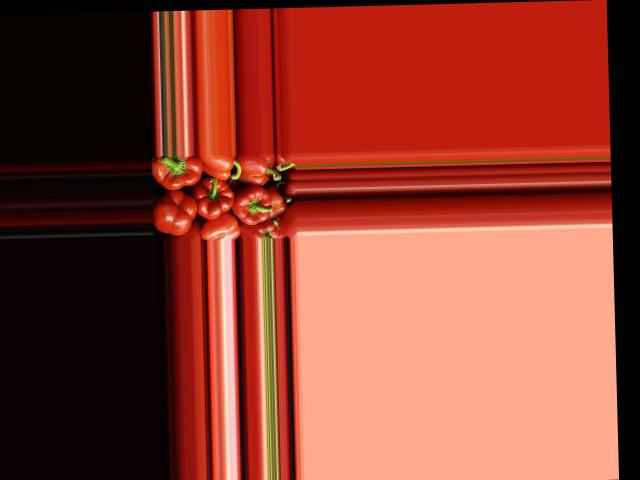bell_pepper: (199, 215, 239, 239)
